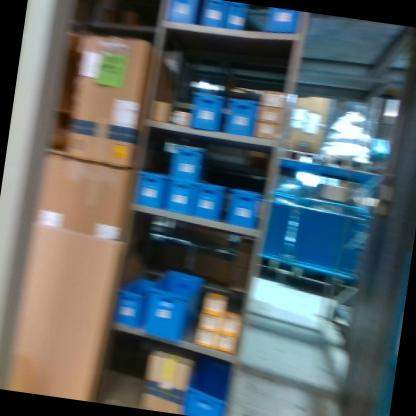small_load_carrier: (141, 255, 203, 341), (180, 354, 234, 416), (219, 182, 266, 241), (166, 137, 210, 187), (114, 271, 152, 325), (188, 177, 228, 224), (158, 170, 198, 217), (186, 85, 225, 131), (130, 167, 168, 213), (221, 97, 258, 137), (264, 7, 305, 38), (198, 0, 230, 35), (166, 0, 205, 27), (226, 2, 247, 33)
